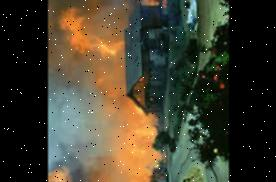fire: (53, 8, 138, 182)
